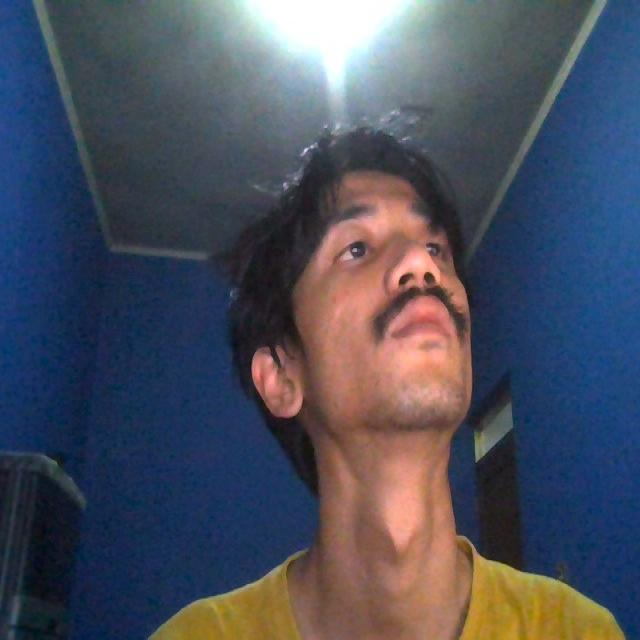melihat kekiri: (222, 158, 502, 447)
